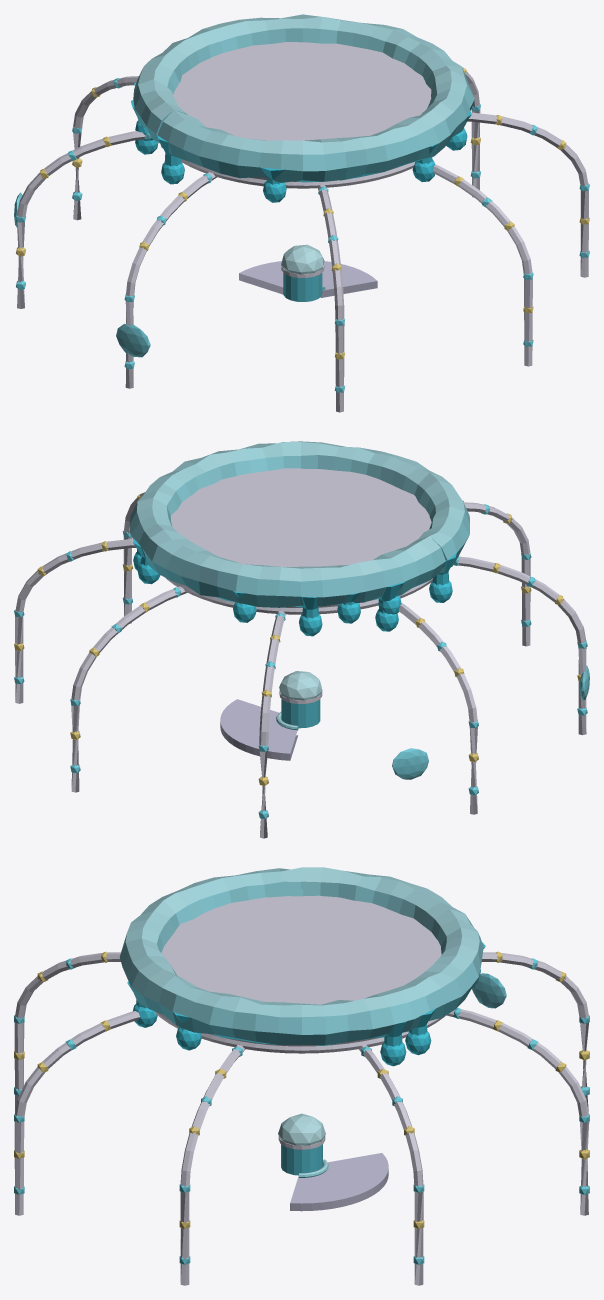
Rendered from goo_jar_trim_4_top@space.fbx.
3 renders of one model, top to bottom at view 1: azimuth 30°, elevation 25°; view 2: azimuth 150°, elevation 25°; view 3: azimuth 270°, elevation 25°, orthographic. The views are drawn at different scales.
Parts seen in each view (by area): view 1: goo_jar_trim_4_top; view 2: goo_jar_trim_4_top; view 3: goo_jar_trim_4_top.
Part boxes in pixels (x1=…): goo_jar_trim_4_top: x1=14, y1=14, x2=589, y2=412; goo_jar_trim_4_top: x1=14, y1=441, x2=589, y2=838; goo_jar_trim_4_top: x1=14, y1=867, x2=589, y2=1285.
Size of the model in its own units: 41.13 by 18.79 by 40.82.
